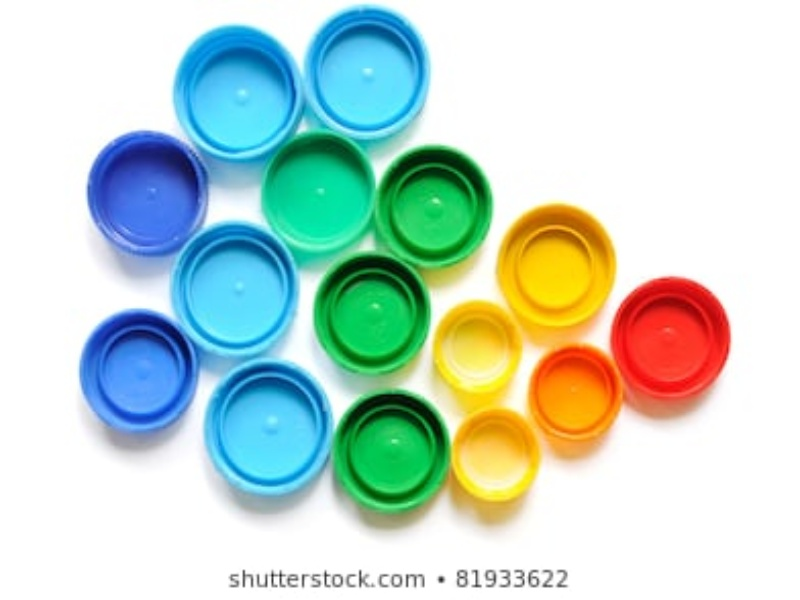bottle-cap: (202, 360, 337, 499), (169, 23, 302, 159), (167, 222, 300, 356), (305, 5, 432, 138), (491, 201, 616, 332), (85, 128, 209, 257), (77, 308, 200, 435), (374, 143, 494, 271), (611, 274, 731, 402), (332, 389, 453, 515), (257, 130, 375, 255), (313, 254, 430, 378), (525, 345, 623, 449), (449, 408, 540, 505), (430, 302, 523, 393)
